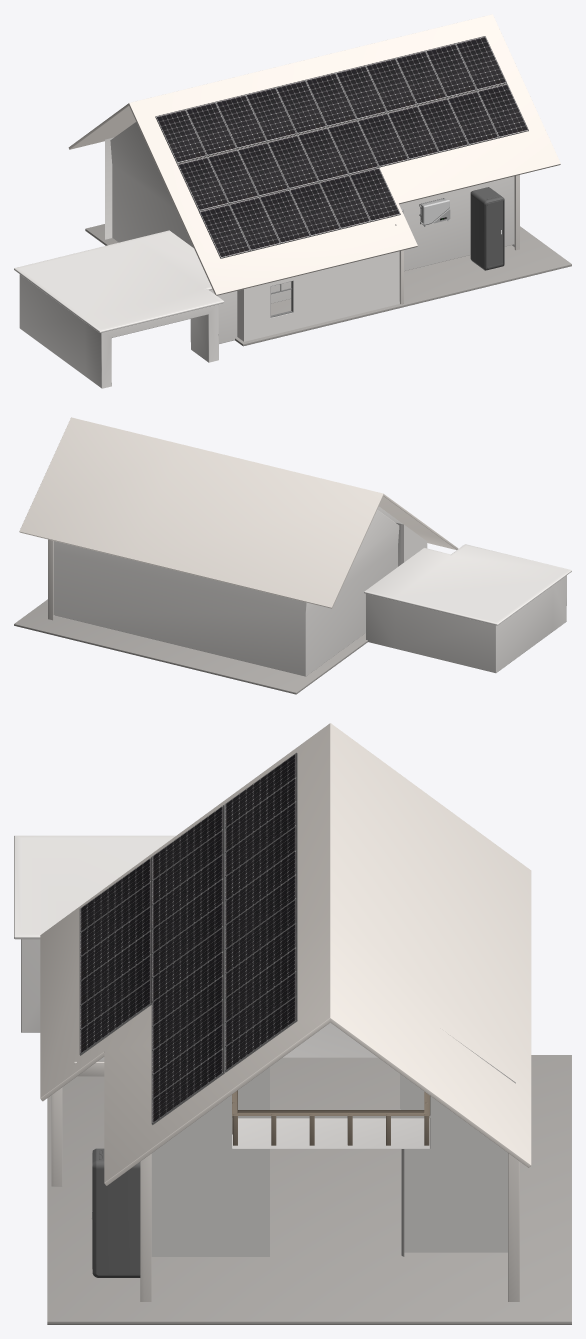
Rendered from house_pbr_V011.glb.
The picture shows the model from 3 angles, top to bottom: view 1: azimuth 30°, elevation 25°; view 2: azimuth 150°, elevation 25°; view 3: azimuth 270°, elevation 25°; orthographic projection. The views are drawn at different scales.
Parts seen in each view (by area): view 1: Obj3d66-13687306-60-657 (×28), roof, house3, house, house2, base, ̨--Éì5, 门; view 2: roof, house, house3, base, house2, Cube.3; view 3: roof, base, Obj3d66-13687306-60-657 (×28), 内部结构, house3, ̨--Éì5, house, Cube.3, Cube.6, 扶手, Cube.
Part boxes in pixels (x1,y1,x2,y2): Obj3d66-13687306-60-657 (×28): [156, 36, 528, 257]; roof: [68, 14, 560, 295]; house3: [14, 230, 237, 388]; house: [105, 122, 514, 303]; house2: [237, 251, 399, 341]; base: [85, 224, 571, 346]; ̨--Éì5: [470, 195, 486, 270]; 门: [487, 200, 502, 266]; roof: [19, 417, 458, 608]; house: [53, 506, 402, 676]; house3: [364, 544, 571, 673]; base: [14, 599, 367, 694]; house2: [400, 524, 427, 564]; Cube.3: [48, 539, 53, 620]; roof: [40, 723, 531, 1185]; base: [47, 1055, 571, 1324]; Obj3d66-13687306-60-657 (×28): [80, 753, 296, 1123]; 内部结构: [151, 1034, 515, 1256]; house3: [14, 835, 175, 1032]; ̨--Éì5: [92, 1168, 140, 1277]; house: [283, 1022, 377, 1057]; Cube.3: [508, 1153, 519, 1301]; Cube.6: [140, 1153, 151, 1301]; 扶手: [232, 1090, 430, 1115]; Cube: [51, 1087, 62, 1186].
Size of what is drawn, in the model's own units: 14.69 by 5.41 by 8.75.
19 materials, 2 textured.
